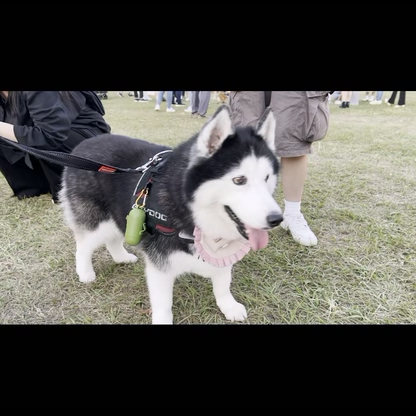husky: (56, 103, 287, 321)
